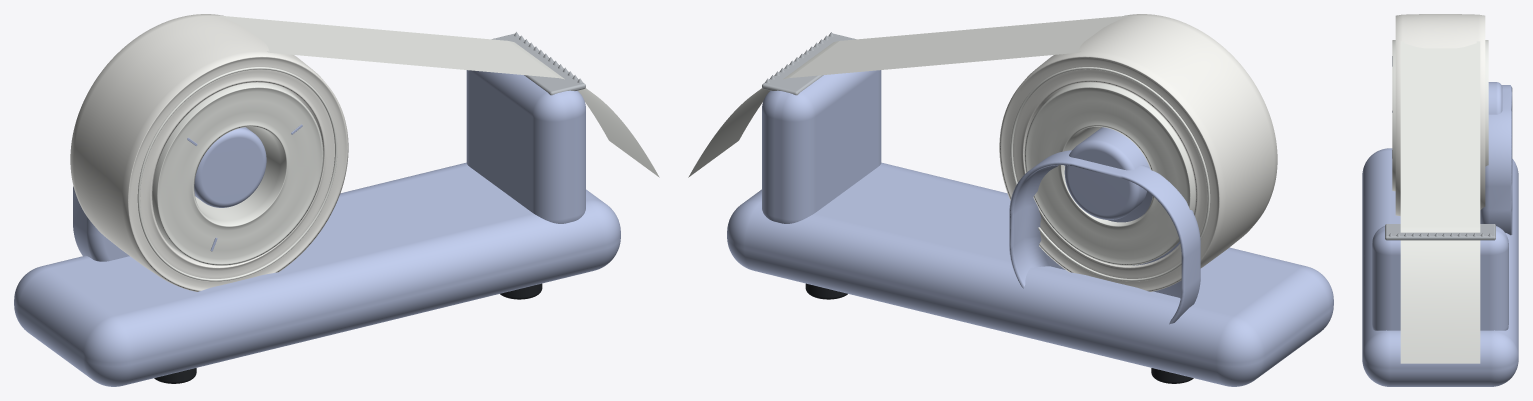
File: tape-dispenser.glb
The picture shows the model from 3 angles, left to right: view 1: azimuth 30°, elevation 25°; view 2: azimuth 150°, elevation 25°; view 3: azimuth 270°, elevation 25°; orthographic projection. The views are drawn at different scales.
Parts seen in each view (by area): view 1: weighted-enamel-base-001, wound-satin-tape-roll, open-paper-tape-core, fixed-cutter-pedestal, tape-connected-to-roll-and-cutter, recessed-fixed-spool-axle, fed-curving-tape-tail, turning-tape-roll-012, rounded-rear-axle-support, fixed-serrated-cutter-018; view 2: weighted-enamel-base-001, wound-satin-tape-roll, open-paper-tape-core, fixed-cutter-pedestal, tape-connected-to-roll-and-cutter, rounded-rear-axle-support, recessed-fixed-spool-axle, fed-curving-tape-tail, turning-tape-roll-011, fixed-serrated-cutter-018; view 3: tape-connected-to-roll-and-cutter, weighted-enamel-base-001, fed-curving-tape-tail, fixed-cutter-pedestal, wound-satin-tape-roll, rounded-rear-axle-support, fixed-serrated-cutter-018, open-paper-tape-core, recessed-fixed-spool-axle.
Part boxes in pixels (x1,y1,x2,y2): weighted-enamel-base-001: (14, 162, 620, 386); wound-satin-tape-roll: (70, 14, 348, 291); open-paper-tape-core: (152, 82, 323, 265); fixed-cutter-pedestal: (466, 70, 585, 223); tape-connected-to-roll-and-cutter: (218, 15, 558, 77); recessed-fixed-spool-axle: (194, 127, 266, 207); fed-curving-tape-tail: (509, 41, 659, 177); turning-tape-roll-012: (137, 67, 337, 281); rounded-rear-axle-support: (73, 186, 129, 261); fixed-serrated-cutter-018: (492, 33, 585, 95); weighted-enamel-base-001: (727, 162, 1333, 386); wound-satin-tape-roll: (999, 14, 1277, 291); open-paper-tape-core: (1024, 82, 1195, 265); fixed-cutter-pedestal: (762, 70, 881, 223); tape-connected-to-roll-and-cutter: (789, 15, 1129, 77); rounded-rear-axle-support: (1009, 150, 1200, 324); recessed-fixed-spool-axle: (1064, 127, 1149, 219); fed-curving-tape-tail: (688, 41, 838, 177); turning-tape-roll-011: (1010, 67, 1210, 281); fixed-serrated-cutter-018: (762, 33, 855, 95); tape-connected-to-roll-and-cutter: (1400, 41, 1480, 227); weighted-enamel-base-001: (1362, 148, 1518, 386); fed-curving-tape-tail: (1400, 227, 1480, 363); fixed-cutter-pedestal: (1372, 226, 1508, 330); wound-satin-tape-roll: (1395, 14, 1485, 216); rounded-rear-axle-support: (1480, 85, 1512, 235); fixed-serrated-cutter-018: (1385, 224, 1495, 240); open-paper-tape-core: (1392, 40, 1488, 191); recessed-fixed-spool-axle: (1488, 82, 1502, 114).
Bounding box in the file's own units: 2 × 0.9899 × 0.5926.
